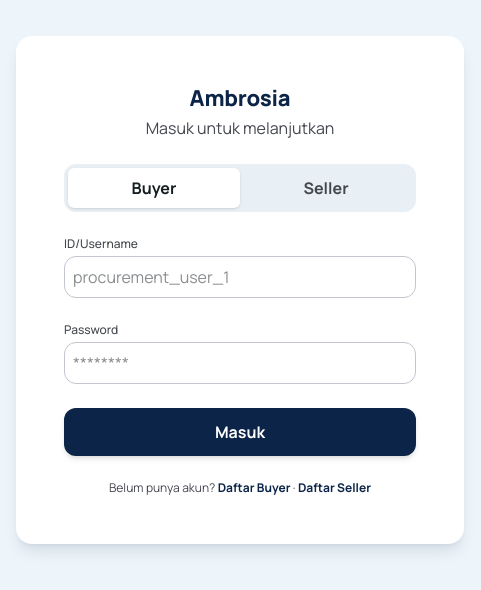
LoginPage › blocks submission and shows errors when fields are empty
This screenshot has width=481, height=590.
Click the button "Masuk". click: click(240, 432)
box: [64,408,416,456]
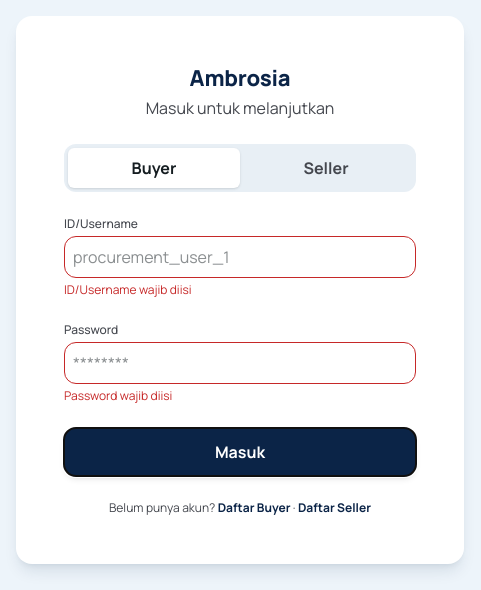
Now the text "ID/Username wajib diisi" is shown, box [64,281,192,298]
Now the text "Password wajib diisi" is shown, box [64,387,172,404]
